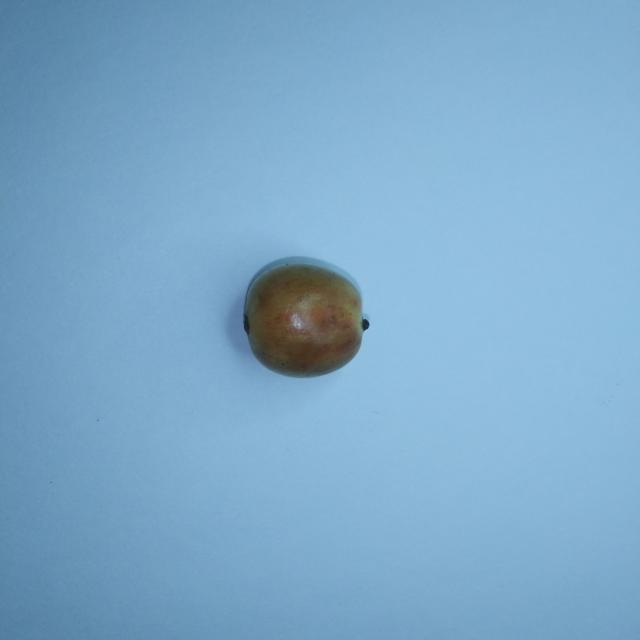Sano: (243, 258, 368, 375)
